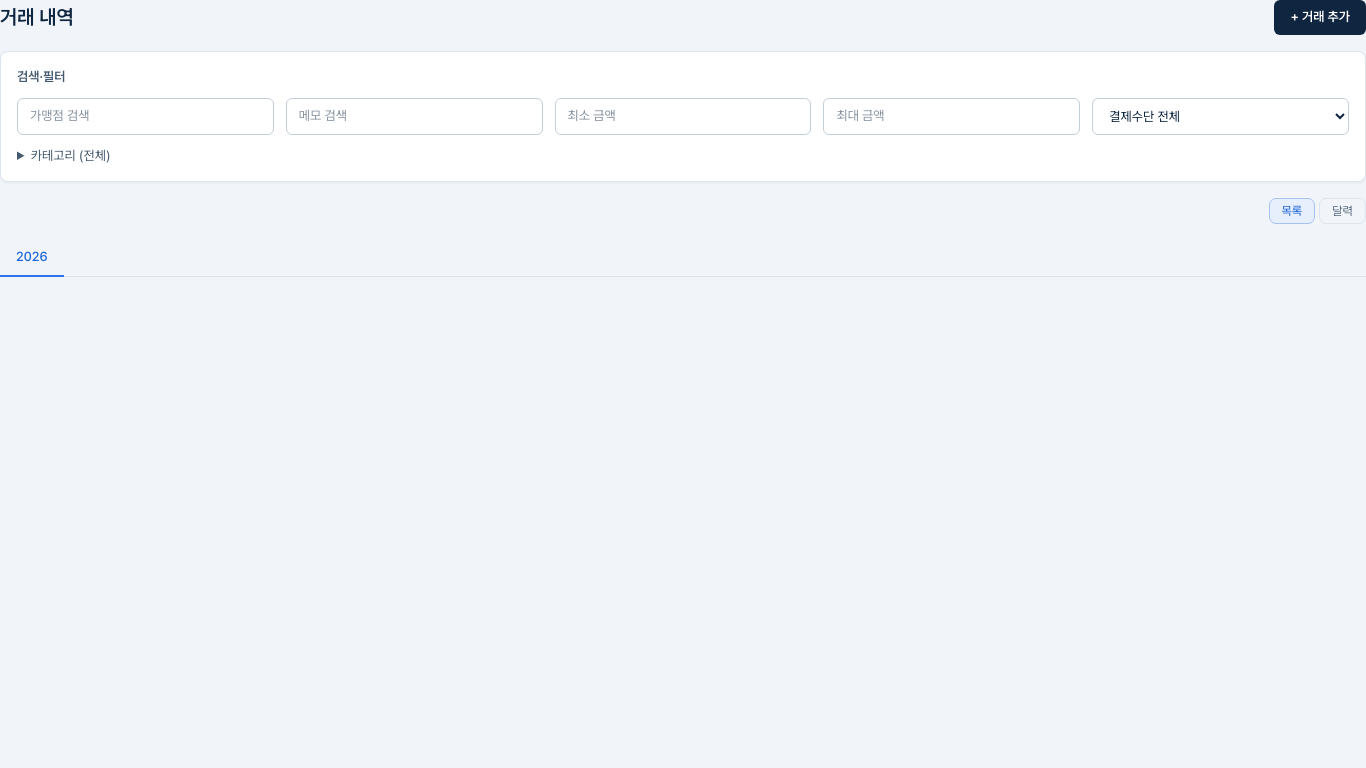
Test: 달력 보기가 말하는 것 › 날짜를 안 고르면 누르라고 안내한다
Click the button "달력".
click(1343, 211)  # box x1=1319 y1=198 x2=1365 y2=224
(page scrolled)
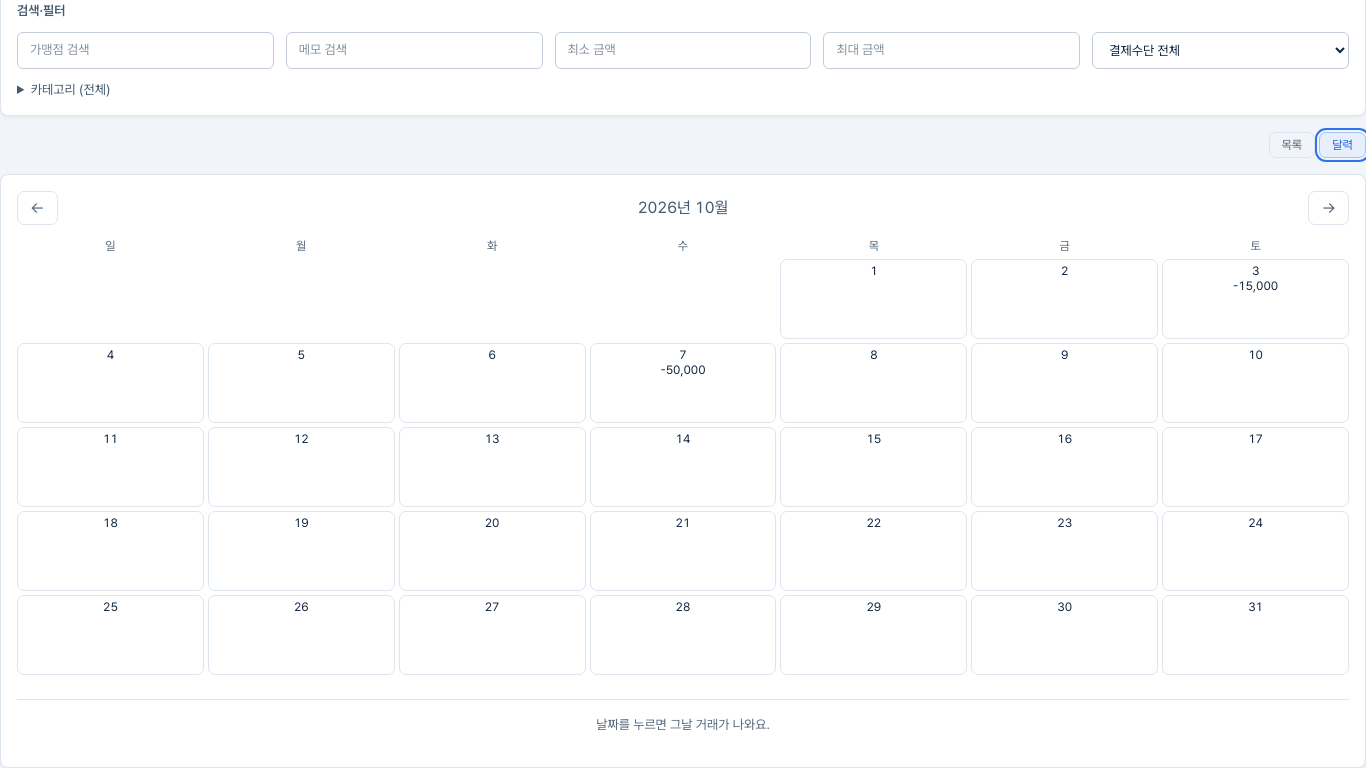
Result: the text "날짜를 누르면 그날 거래가 나와요." is shown at x1=17 y1=699 x2=1349 y2=751
